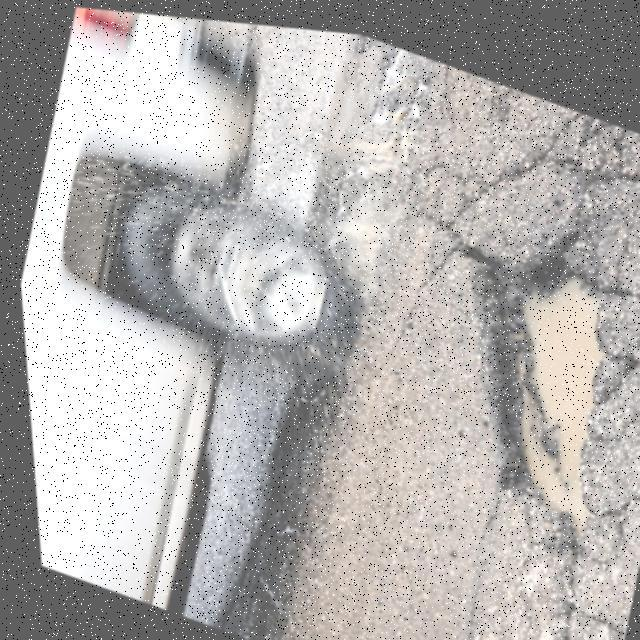pothole: (394, 192, 640, 544)
